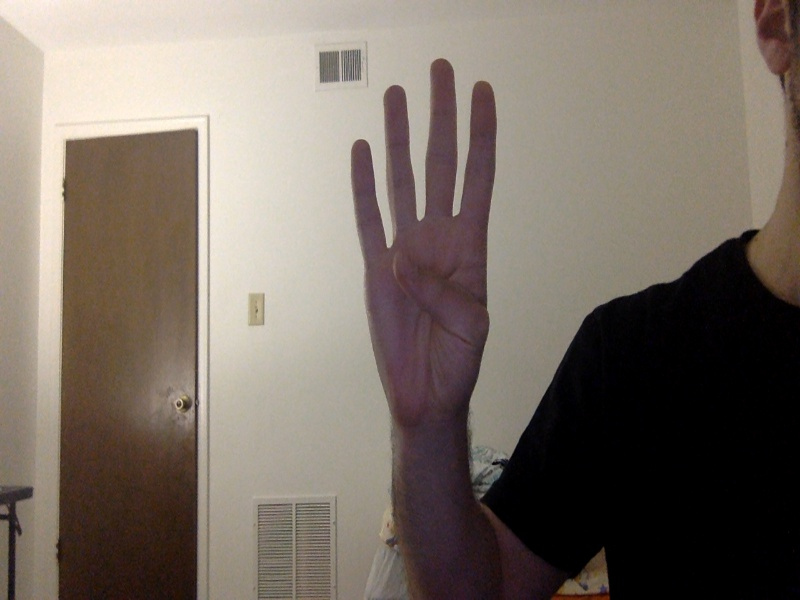4-hand: (349, 58, 498, 427)
